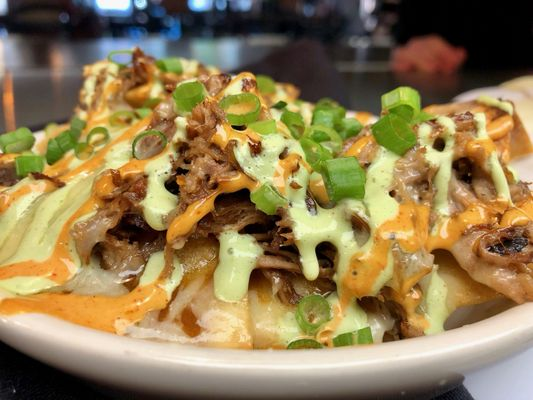pizza: (387, 0, 533, 104)
